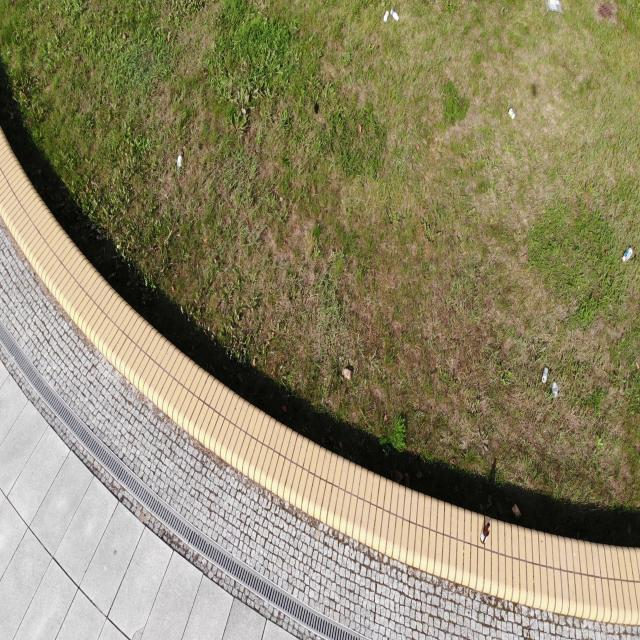rubbish: (510, 504, 525, 524), (543, 0, 564, 14), (480, 522, 490, 544), (622, 246, 634, 264), (340, 367, 352, 381), (542, 367, 549, 383), (389, 9, 399, 20), (507, 106, 515, 119), (552, 382, 557, 398), (383, 11, 390, 22), (176, 155, 183, 166)
